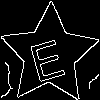E: (24, 30, 67, 83)
